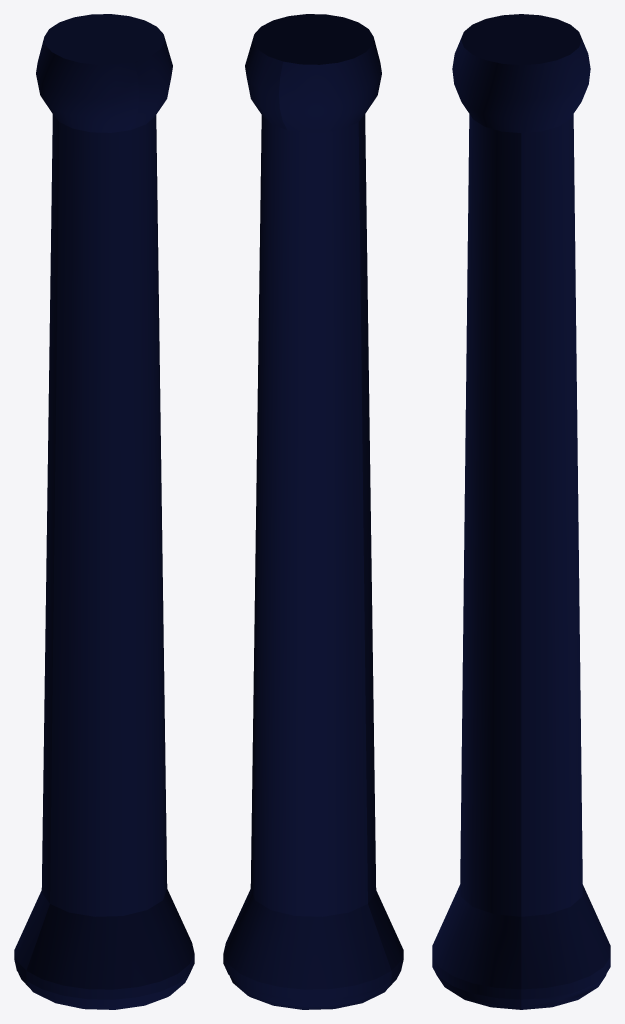
File: adjustable_tool_arm.obj
The picture shows the model from 3 angles, left to right: view 1: azimuth 30°, elevation 25°; view 2: azimuth 150°, elevation 25°; view 3: azimuth 270°, elevation 25°; orthographic projection.
Bounding box in the file's own units: 0.0164 × 0.0941 × 0.0162.
